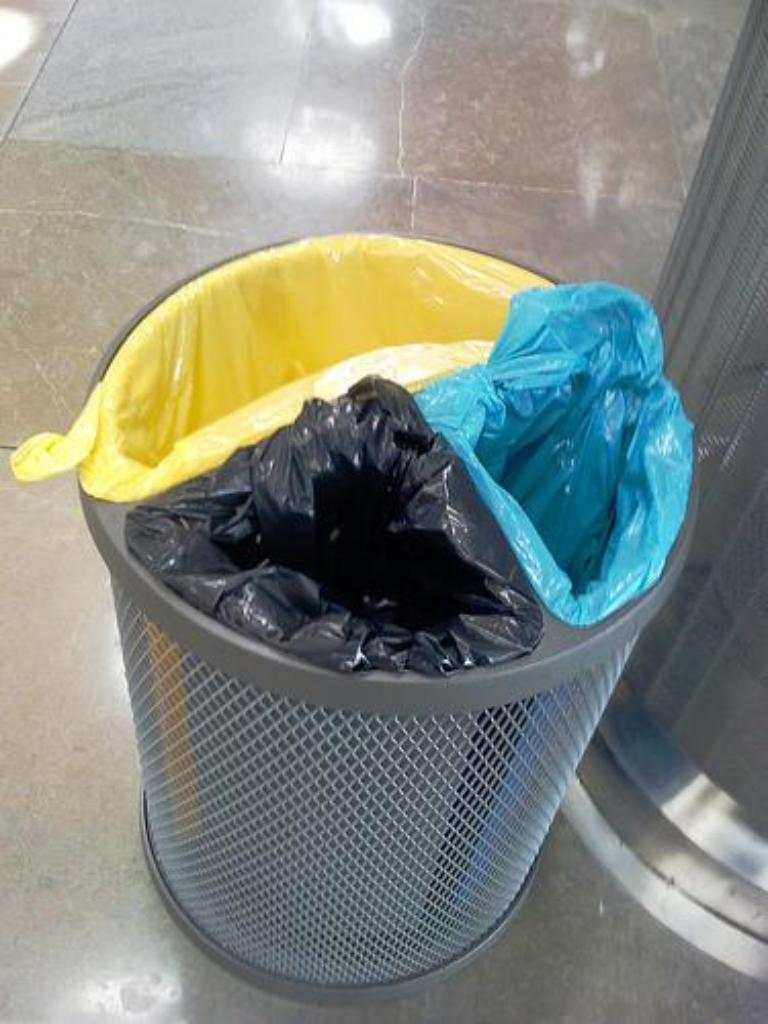dustbin: (74, 200, 709, 1023)
